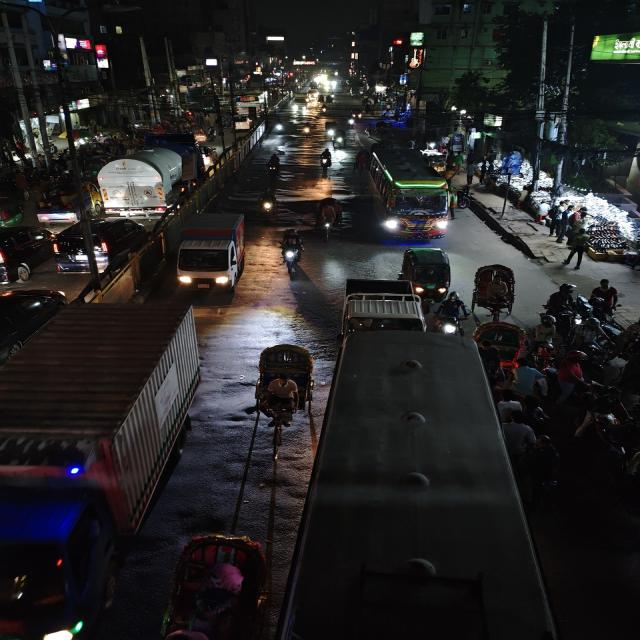bus: (294, 329, 538, 640), (363, 142, 456, 241)
car: (0, 283, 66, 390), (52, 215, 155, 275), (0, 224, 52, 287), (33, 188, 88, 224)
cng: (399, 244, 455, 300)
motorcycle: (273, 227, 309, 277), (436, 290, 466, 336), (258, 186, 278, 216), (265, 152, 284, 182), (318, 146, 336, 172), (272, 119, 286, 135)
pedestrian: (545, 280, 585, 328), (590, 278, 620, 324)
pickup_van: (337, 273, 430, 332)
rickshaw: (157, 527, 277, 640), (249, 340, 316, 434), (473, 320, 530, 384), (469, 261, 522, 319), (330, 129, 348, 150)
truck: (0, 303, 204, 637), (89, 148, 190, 216), (173, 208, 251, 294)
